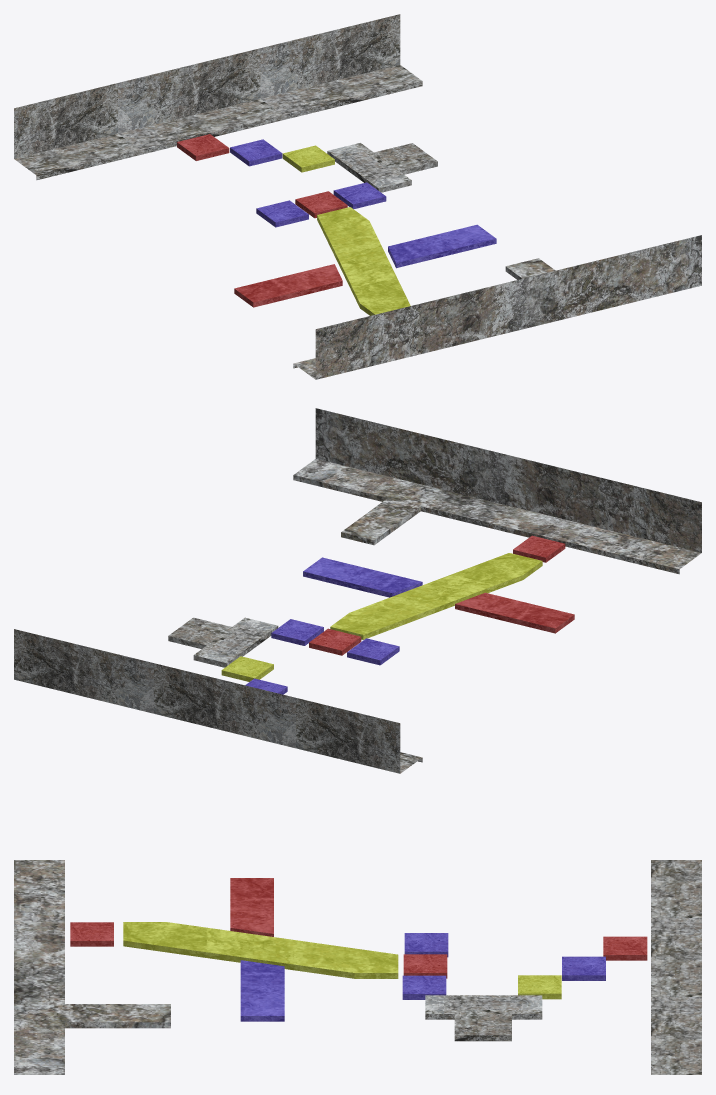
3 renders of one model, top to bottom at view 1: azimuth 30°, elevation 25°; view 2: azimuth 150°, elevation 25°; view 3: azimuth 270°, elevation 25°, orthographic. The views are drawn at different scales.
Visible parts, largest first — view 1: Plane.001_Plane.002; view 2: Plane.001_Plane.002; view 3: Plane.001_Plane.002.
Part boxes in pixels (x1,y1,x2,y2): Plane.001_Plane.002: (14, 14, 701, 379); Plane.001_Plane.002: (14, 408, 701, 773); Plane.001_Plane.002: (14, 860, 701, 1074).
Size of the model in its own units: 39.9 by 5.5 by 54.
Materials: 4 (4 with a texture image).
